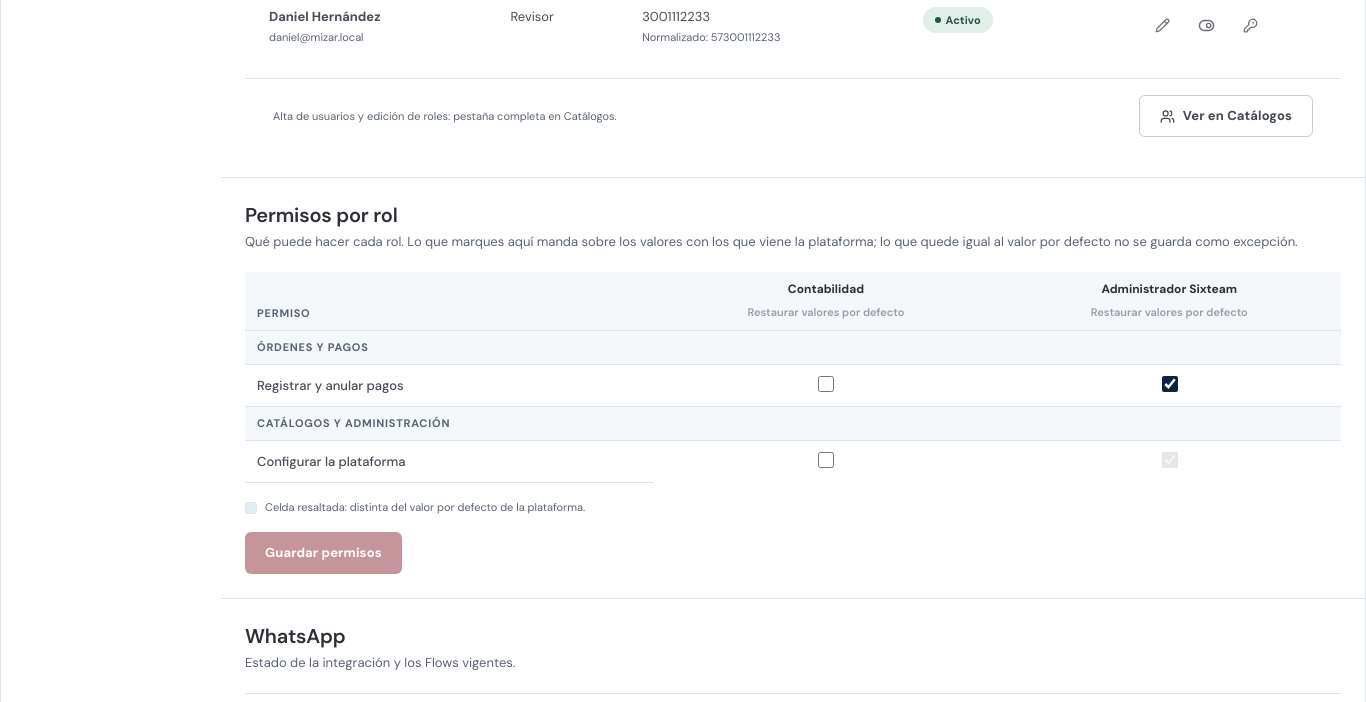
Test case: SettingsScreen — Permisos por rol › marca lo vigente, señala lo distinto del default y guarda solo los roles que cambian
(page scrolled)
Expected: the checkbox named "Registrar y anular pagos — Administrador Sixteam" is checked, [1162,376,1178,392]
Expected: the button "Guardar permisos" is disabled, [245,532,402,574]
Click the checkbox named "Registrar y anular pagos — Contabilidad" at (826, 384), box [818,376,834,392]
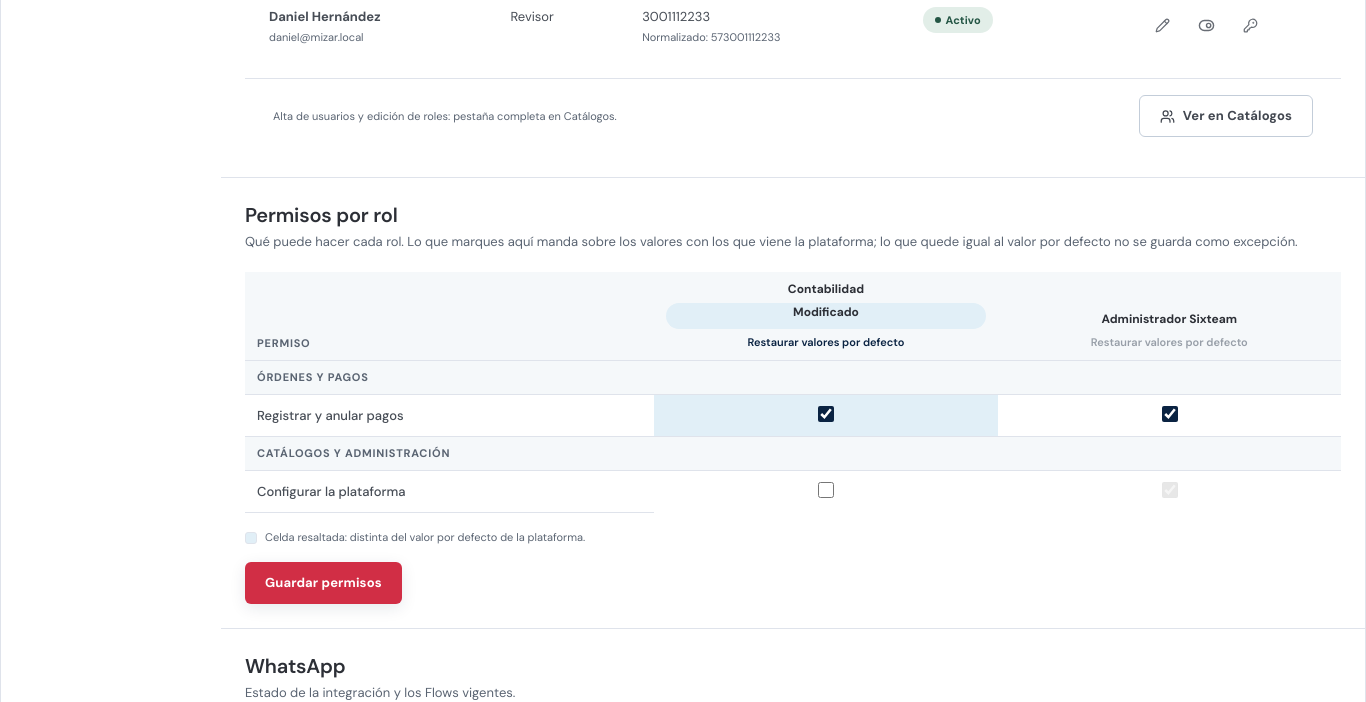
Expected: the checkbox named "Registrar y anular pagos — Contabilidad" is checked, [818,406,834,422]
Click the button "Guardar permisos" at (323, 583), box [245,562,402,604]
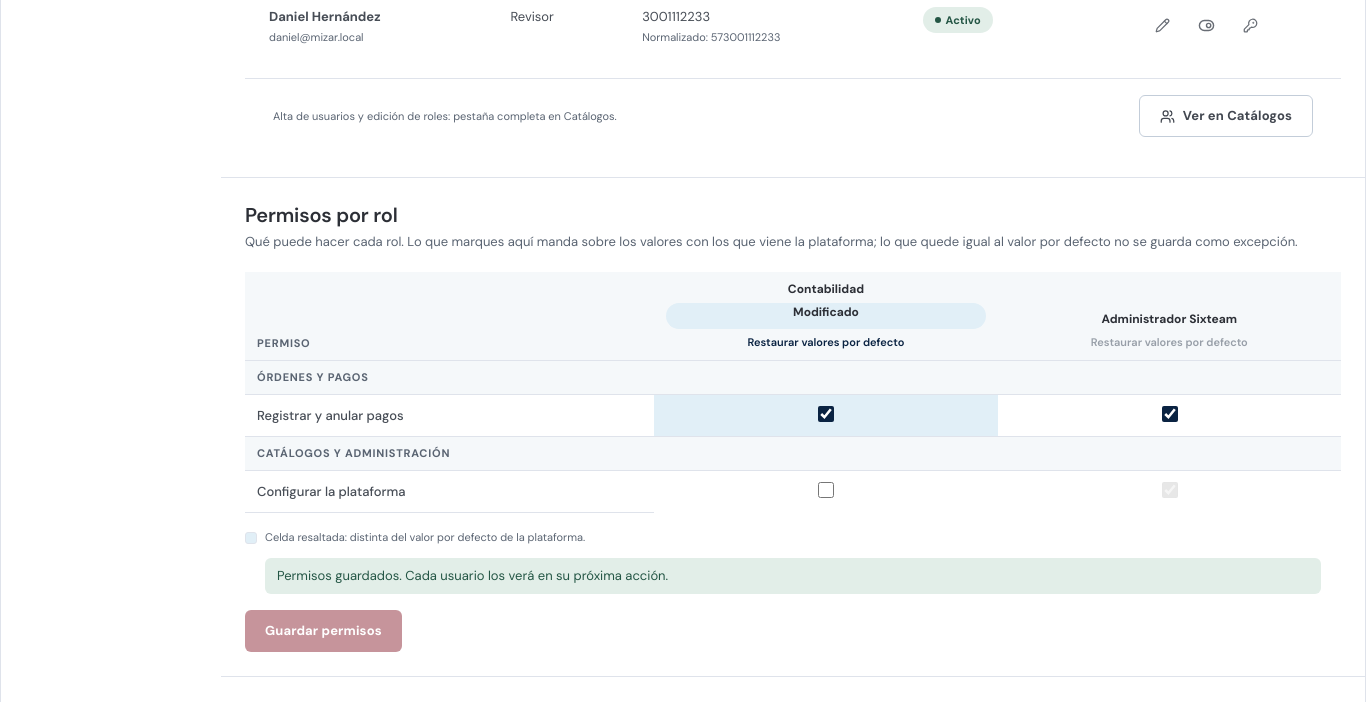
Expected: the text "Permisos guardados. Cada usuario los verá en su próxima acción." is shown, [265,558,1321,594]
